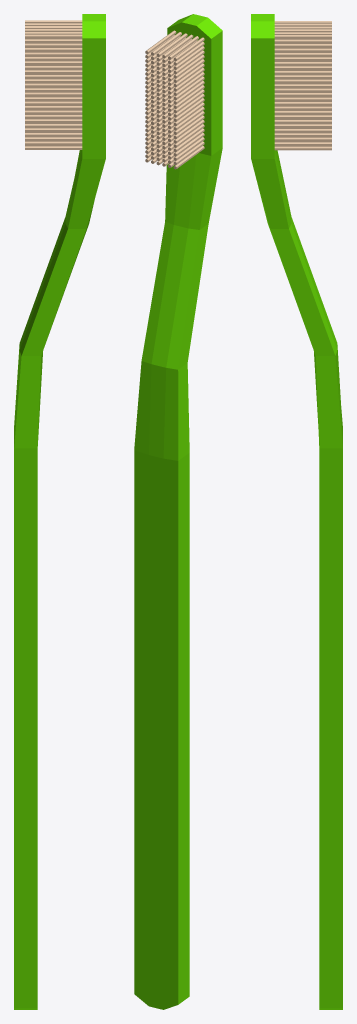
File: toothbrush.glb
The picture shows the model from 3 angles, left to right: view 1: azimuth 90°, elevation 25°; view 2: azimuth 150°, elevation 25°; view 3: azimuth 270°, elevation 25°; orthographic projection. The views are drawn at different scales.
Parts seen in each view (by area): view 1: thoothbrush handle, thoothbrush bristl; view 2: thoothbrush handle, thoothbrush bristl; view 3: thoothbrush handle, thoothbrush bristl.
Boxes of the visible parts, <box> form: thoothbrush handle: <box>14,14,105,1009</box>; thoothbrush bristl: <box>25,20,82,149</box>; thoothbrush handle: <box>134,14,222,1009</box>; thoothbrush bristl: <box>145,30,204,169</box>; thoothbrush handle: <box>251,14,342,1009</box>; thoothbrush bristl: <box>274,21,331,150</box>.
Bounding box in the file's own units: 0.00939 × 0.1954 × 0.0164.
